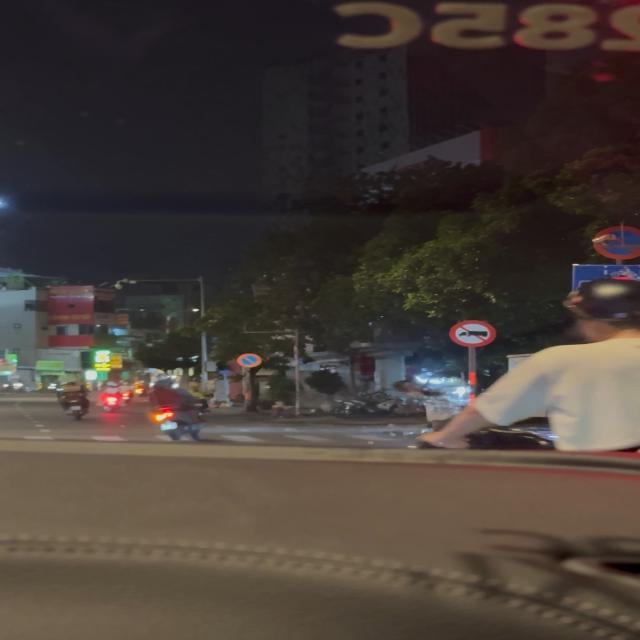Bien bao cam xe so-mi ro-mooc: (447, 317, 502, 349)
